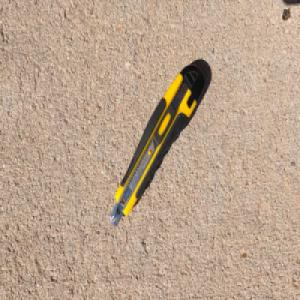Cutter: (108, 62, 206, 229)
